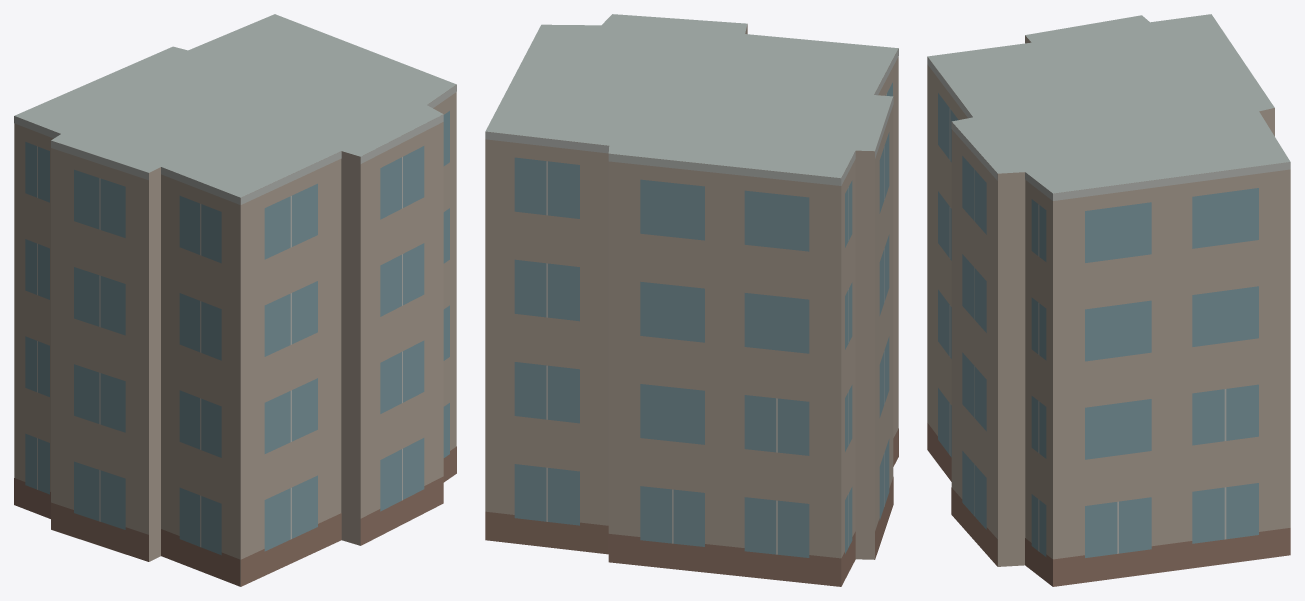
Rendered from survey-upis-32611028.glb.
3 views of the same model, side by side, from view 1: azimuth 30°, elevation 25°; view 2: azimuth 150°, elevation 25°; view 3: azimuth 270°, elevation 25° (orthographic). The views are drawn at different scales.
Visible parts, largest first — view 1: survey-upis-32611028.tmp; view 2: survey-upis-32611028.tmp; view 3: survey-upis-32611028.tmp.
Part boxes in pixels (bbox=[...]): survey-upis-32611028.tmp: bbox=[14, 14, 456, 586]; survey-upis-32611028.tmp: bbox=[485, 14, 898, 586]; survey-upis-32611028.tmp: bbox=[927, 14, 1290, 586].
Size of the model in its own units: 12.44 by 12.7 by 10.64.
